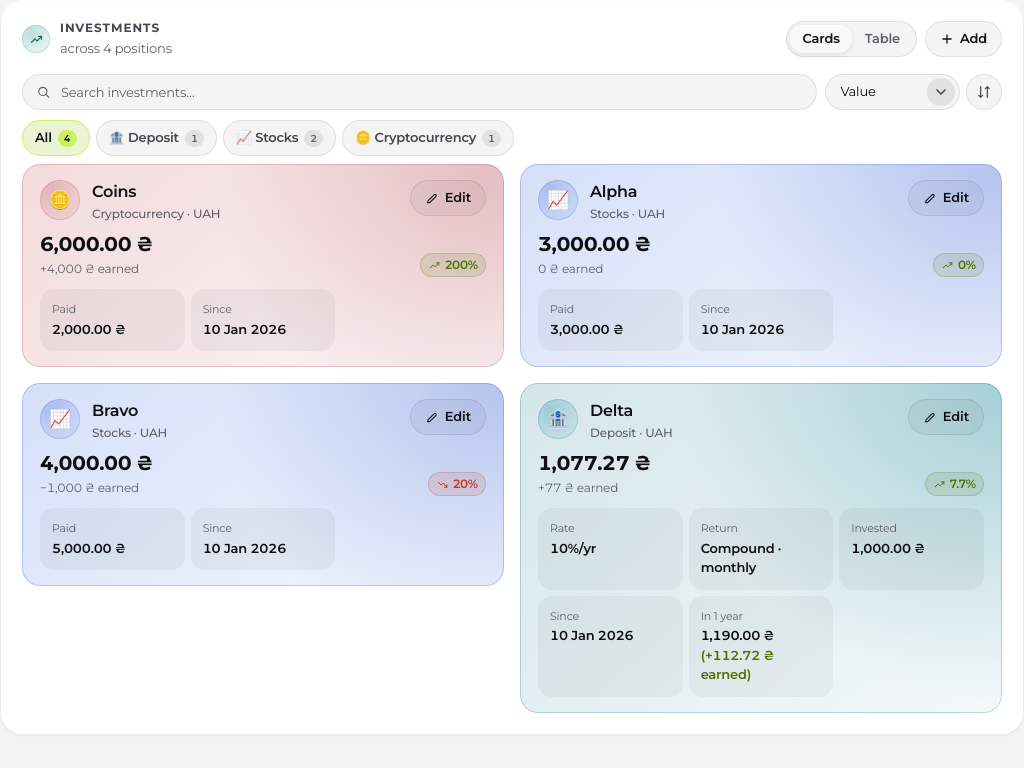
Test: InvestmentsCard › searches the positions and says when none match
Type "zzz" into the search field at (420, 92), box [22,74,817,110]
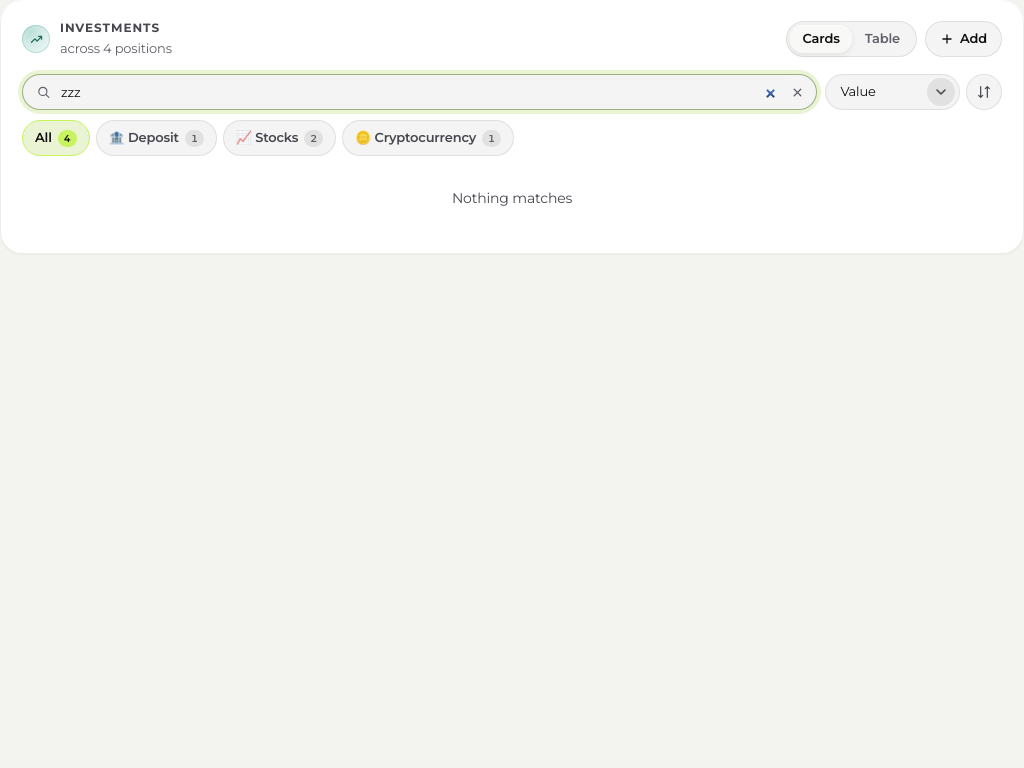
Expected: the text "Nothing matches" is shown, [452,189,572,207]
